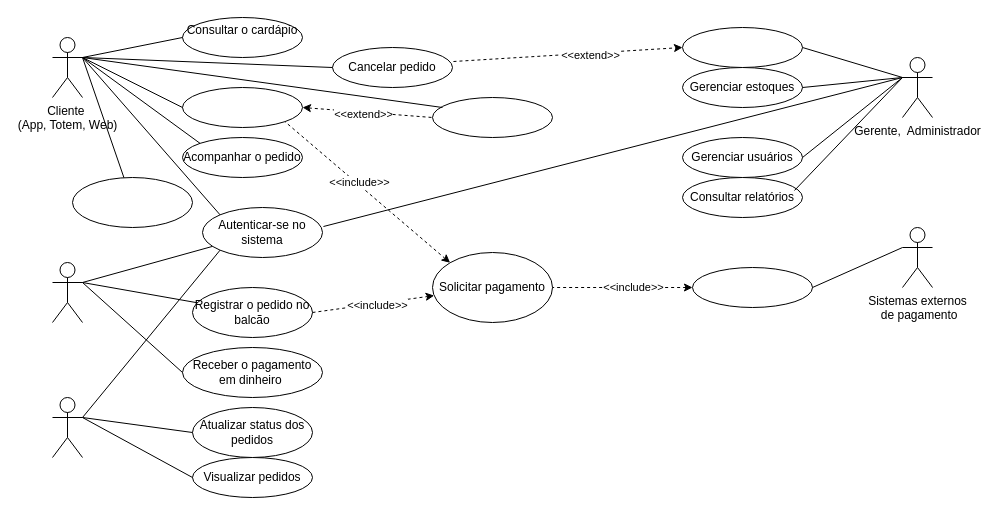
Some shapes in this 998 by 515 pixel diagram are drawn without their labels. Each missing label, with the centre of its shape:
"Atendente (Balcão)" belongs at point (67, 292).
"Cadastrar-se no sistema" belongs at point (132, 202).
"Cozinha" belongs at point (67, 427).
"Fidelizar o cliente" belongs at point (492, 117).
"Gerenciar pedidos" belongs at point (742, 47).
"Processar transação" belongs at point (752, 287).
"Realizar o pedido" belongs at point (242, 107).
